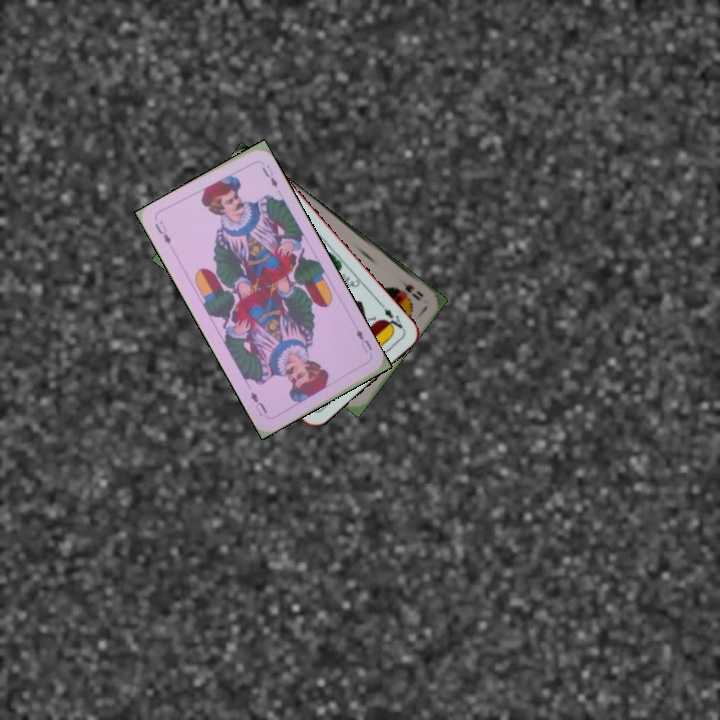EA: (376, 299, 406, 333)
EU: (352, 325, 375, 356), (151, 216, 173, 247)
SO: (393, 274, 426, 303)
